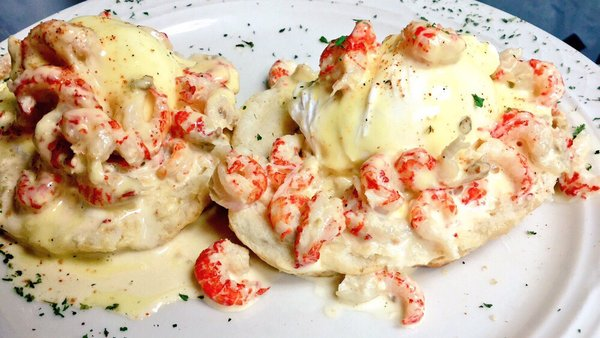soup: (0, 10, 241, 257)
